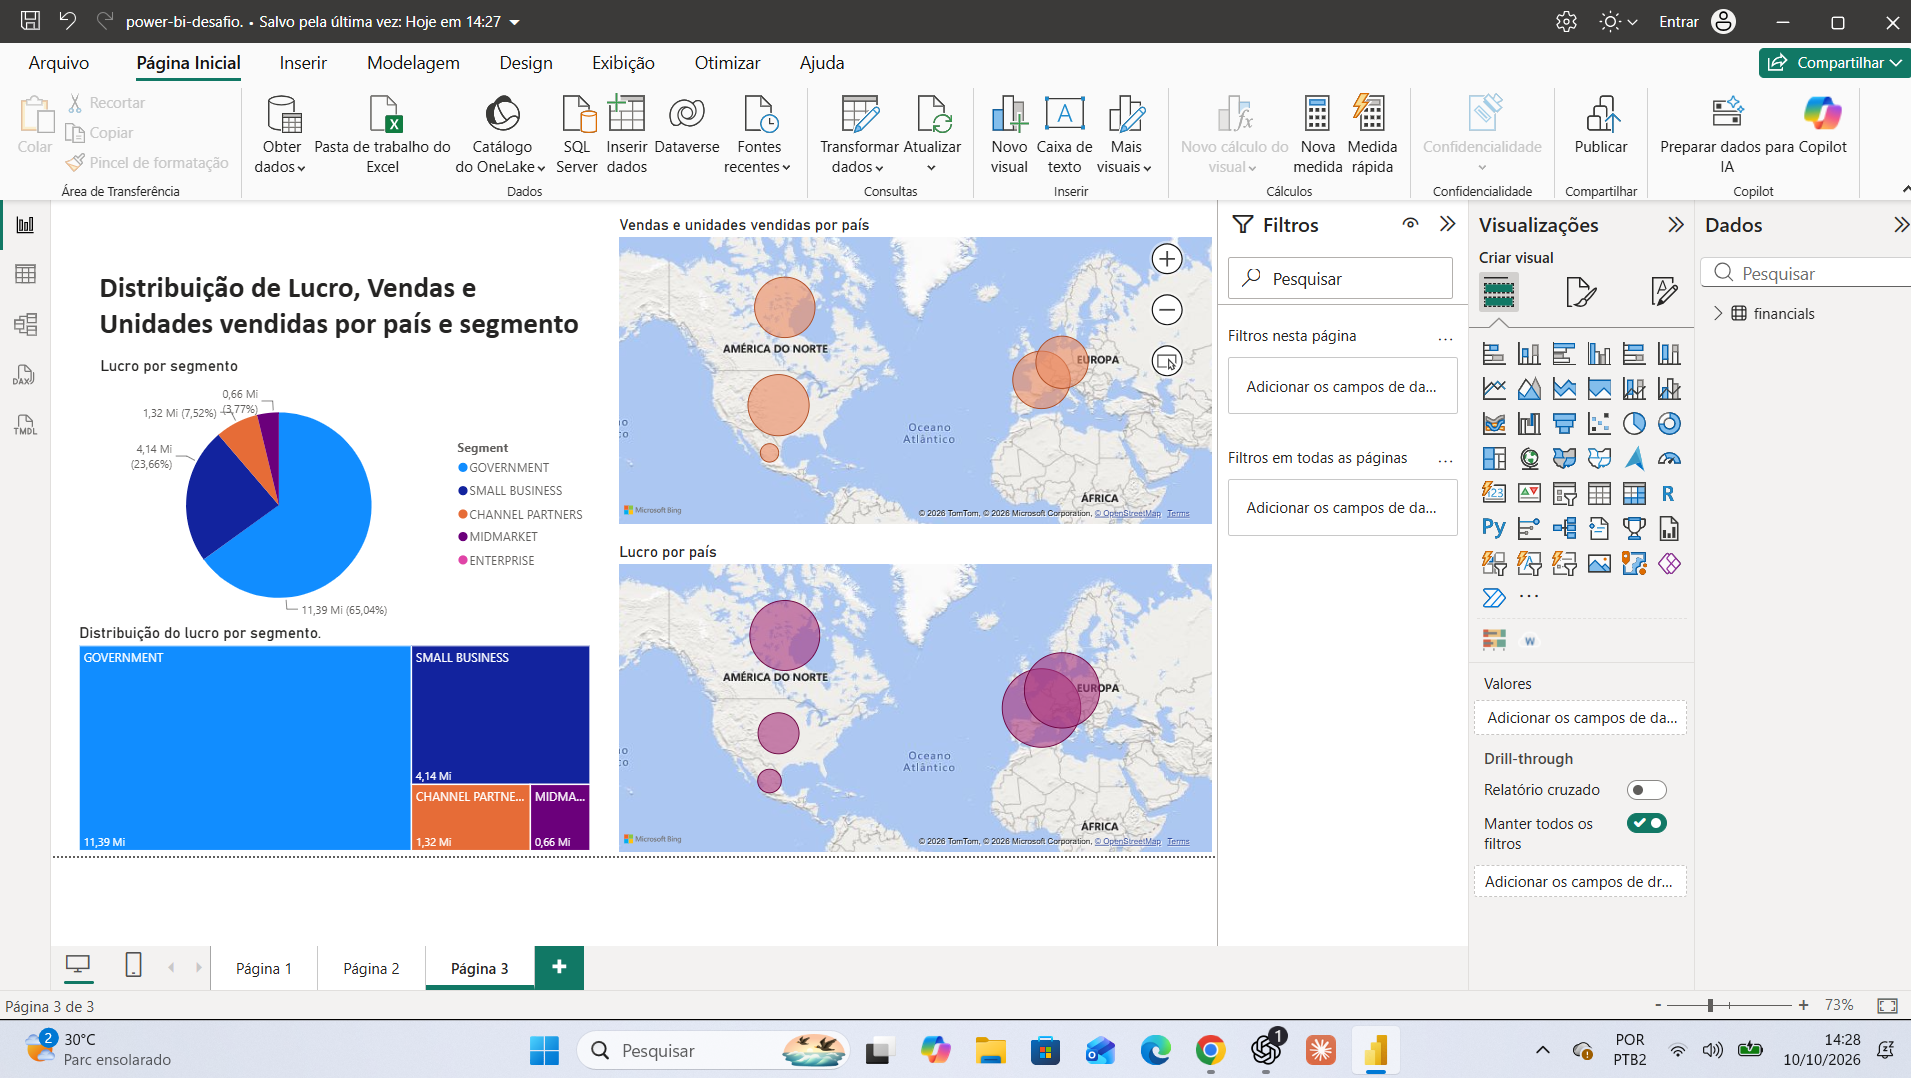

What the dashboard file says about the page in this screenshot:
{"tool":"powerbi","page":{"name":"Página 3","canvas":[1280,720],"ordinal":2},"visuals":[{"type":"pieChart","title":"Lucro por segmento","fields":{"Category":["financials.Segment"],"Y":["Sum(financials.Profit)"]},"box":[48.9,171.1,548.9,308],"z":0},{"type":"map","title":"Vendas e unidades vendidas por país","fields":{"Category":["financials.Country"],"Size":["Sum(financials. Sales)"]},"box":[618.7,16.5,661.3,343.7],"z":1000},{"type":"map","title":"Lucro por país","fields":{"Category":["financials.Country"],"Size":["Sum(financials.Profit)"]},"box":[618.7,375.3,661.3,345.1],"z":2000},{"type":"textbox","box":[48.1,71.5,548.6,100.4],"z":3000},{"type":"treemap","title":"Distribuição do lucro por segmento.","fields":{"Group":["financials.Segment"],"Values":["Sum(financials.Profit)"]},"box":[25.7,465.7,570.9,254.3],"z":4000}]}

Visuals, with their boxes on the page's 1280x720 design canvas (x1, y1, x2, y2). These are canvas units, not pixel positions in the 1911x1078 screenshot, which may show the page scaled, cropped or inside an application window:
"Lucro por segmento" pieChart: BBox(49, 171, 598, 479)
"Vendas e unidades vendidas por país" map: BBox(619, 16, 1280, 360)
"Lucro por país" map: BBox(619, 375, 1280, 720)
textbox: BBox(48, 72, 597, 172)
"Distribuição do lucro por segmento." treemap: BBox(26, 466, 597, 720)
